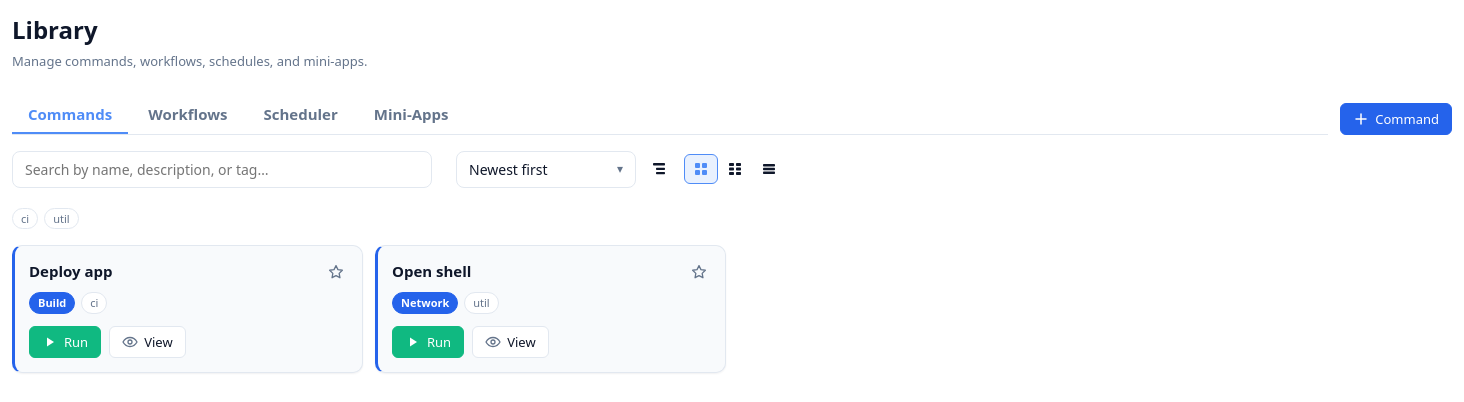
Library Commands tab — tag & category filters › selecting a tag chip narrows the command list (ANY semantics)
Expected: the heading "Deploy app" is shown, [29,260,112,280]
Expected: the heading "Open shell" is shown, [392,260,471,280]
Note: Click the 'ci' filter chip → only the 'ci'-tagged command remains.
Click the button "ci" at (25, 218), box [12,208,38,228]
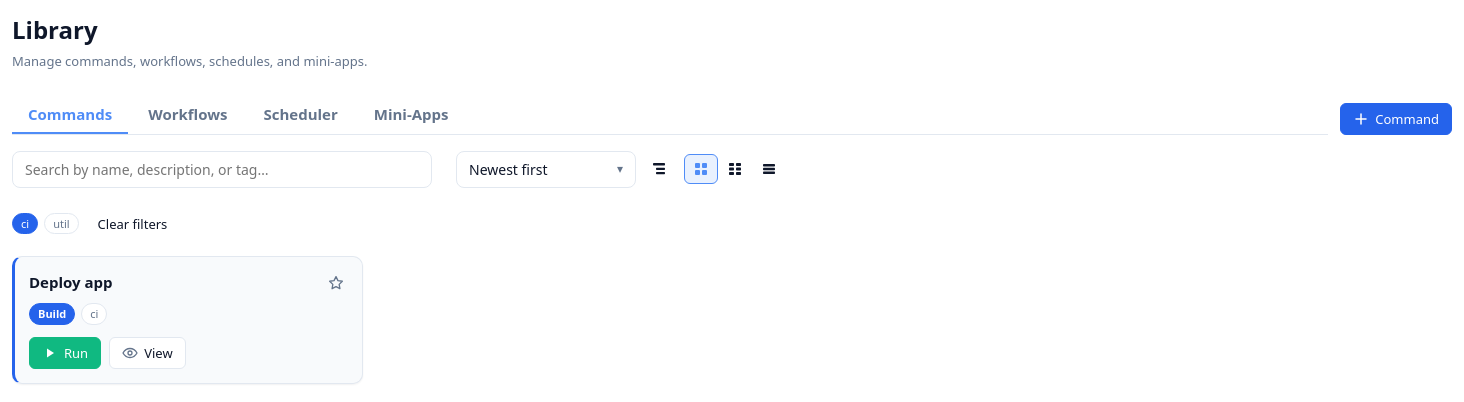
Expected: the heading "Deploy app" is shown, [29,272,112,292]
Expected: the heading "Open shell" is gone
